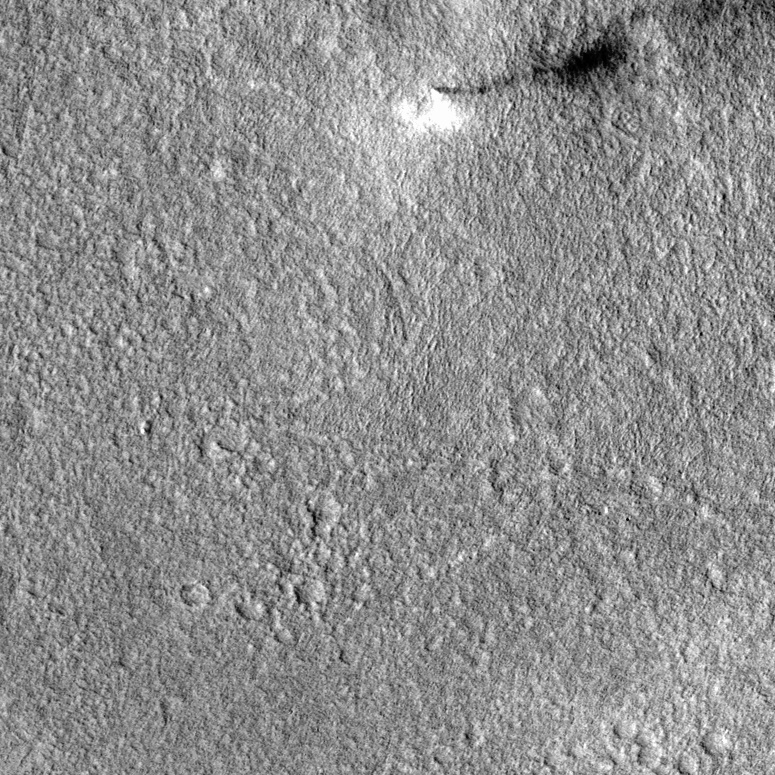dust_devil: (391, 27, 632, 139)
